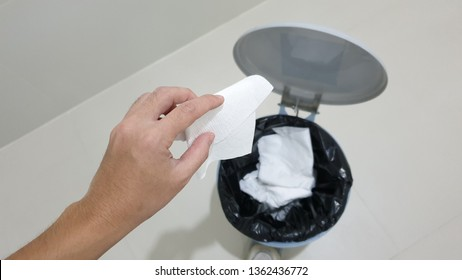Tissue: (239, 126, 318, 209)
